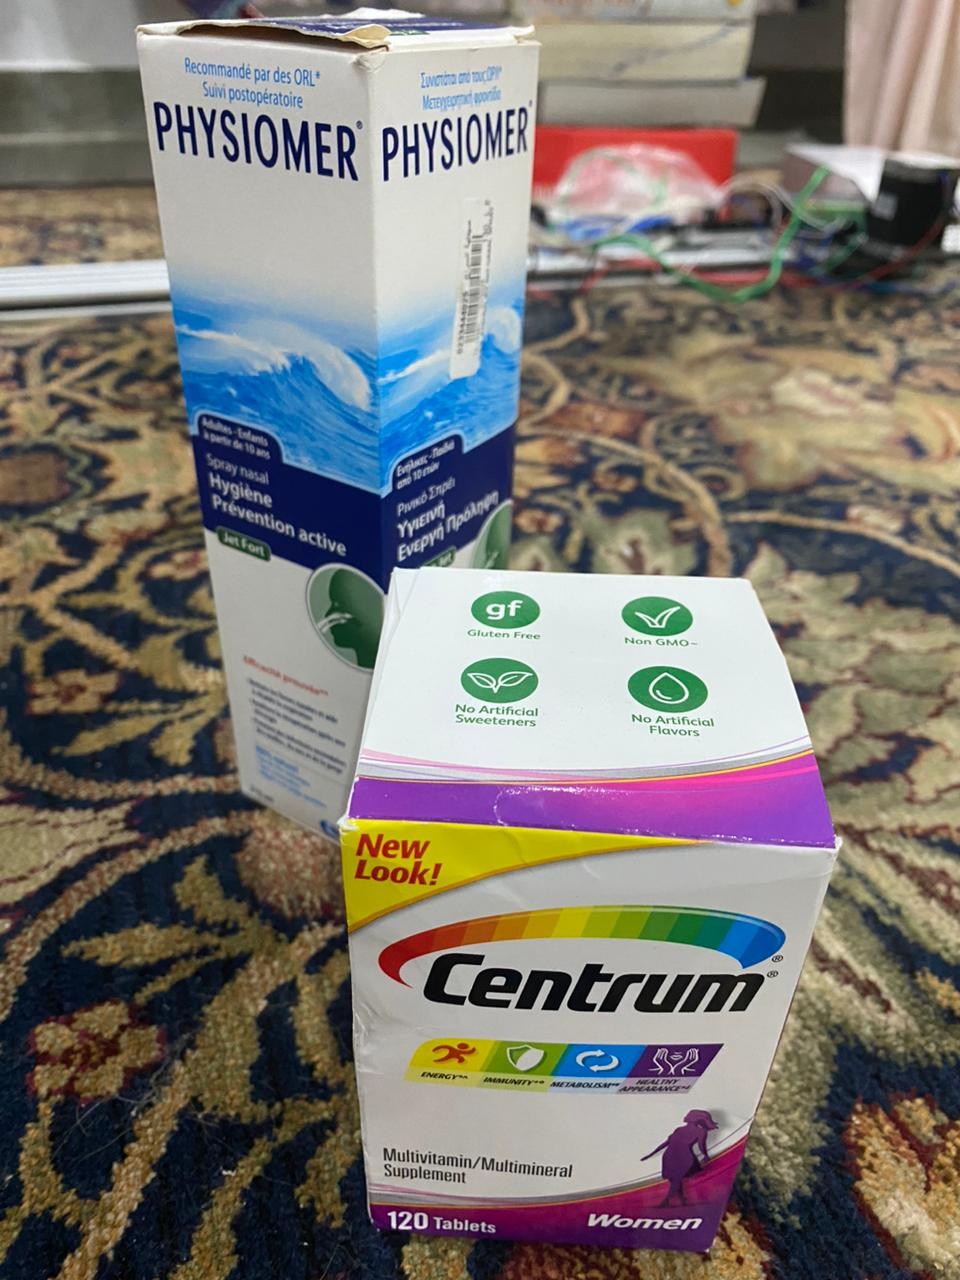Centrum: (331, 561, 838, 1260)
Physiomer: (131, 4, 545, 838)
